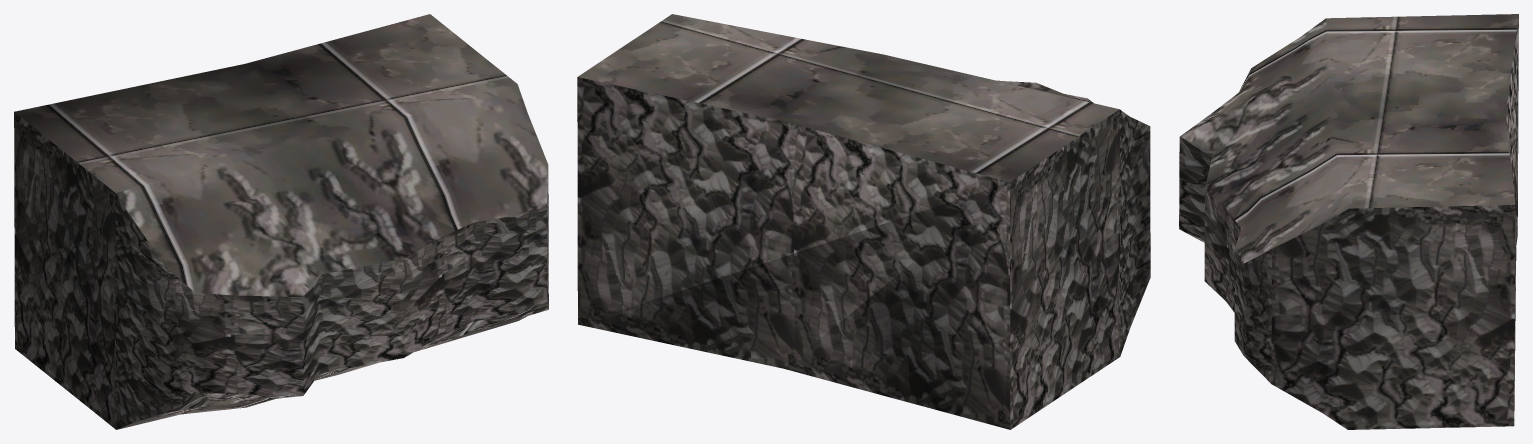
Rendered from INST_SM_DEBRIS_BLOCK_SMALLC.fbx.
3 renders of one model, left to right at view 1: azimuth 30°, elevation 25°; view 2: azimuth 150°, elevation 25°; view 3: azimuth 270°, elevation 25°, orthographic. The views are drawn at different scales.
Visible parts, largest first — view 1: INST_SM_DEBRIS_BLOCK_SMALLC; view 2: INST_SM_DEBRIS_BLOCK_SMALLC; view 3: INST_SM_DEBRIS_BLOCK_SMALLC.
Boxes of the visible parts, x1=… form: INST_SM_DEBRIS_BLOCK_SMALLC: x1=14, y1=14, x2=548, y2=429; INST_SM_DEBRIS_BLOCK_SMALLC: x1=577, y1=14, x2=1150, y2=429; INST_SM_DEBRIS_BLOCK_SMALLC: x1=1179, y1=14, x2=1518, y2=429.
Size of the model in its own units: 32019 by 17884 by 24213.
Materials: 3 (3 with a texture image).
